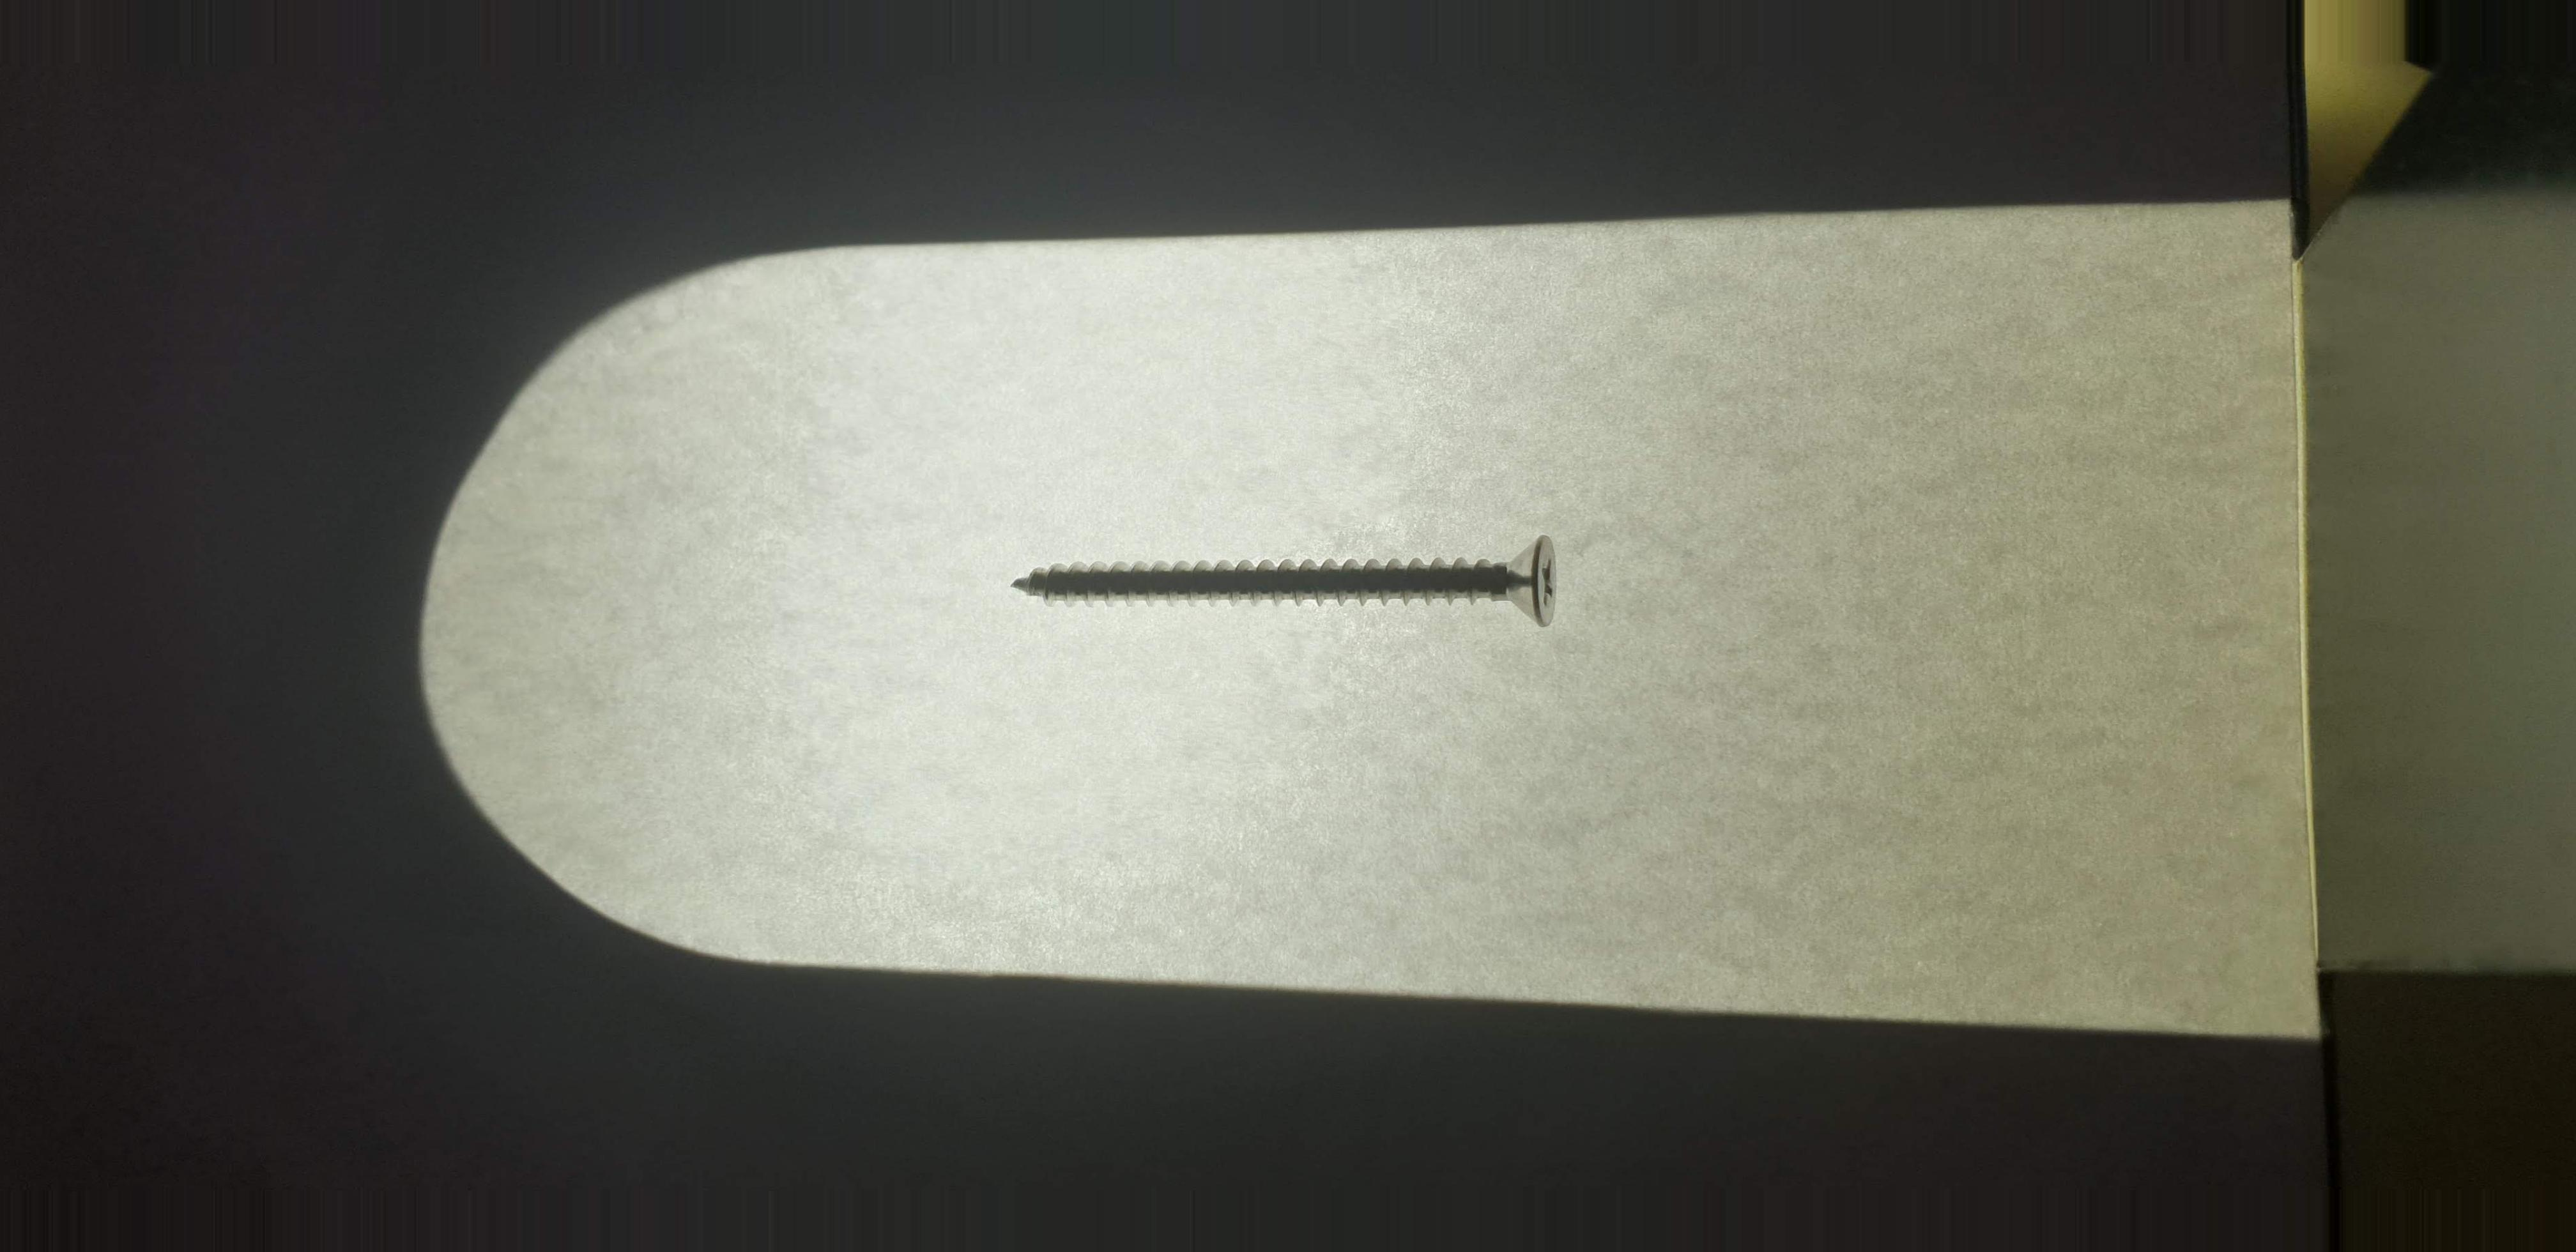S001: (981, 513, 1585, 652)
